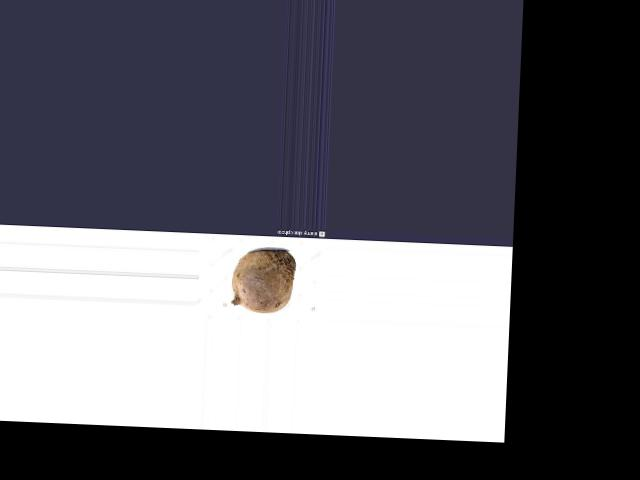beet: (230, 247, 295, 313)
